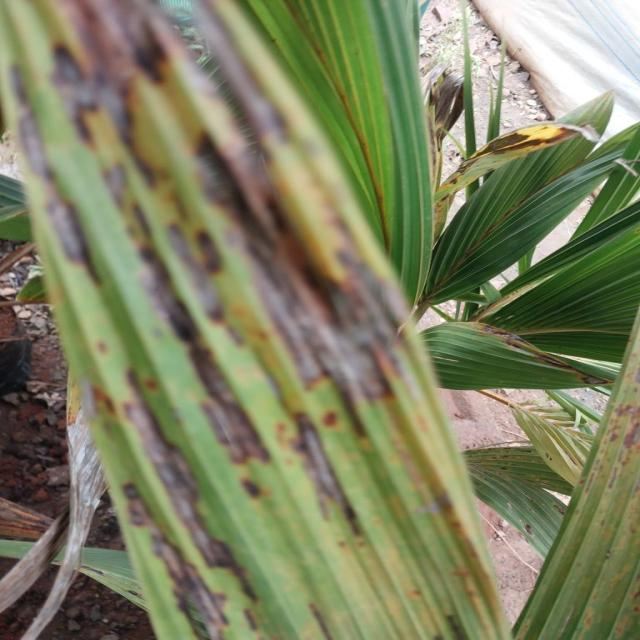gray leaf spot: (0, 0, 508, 639)
